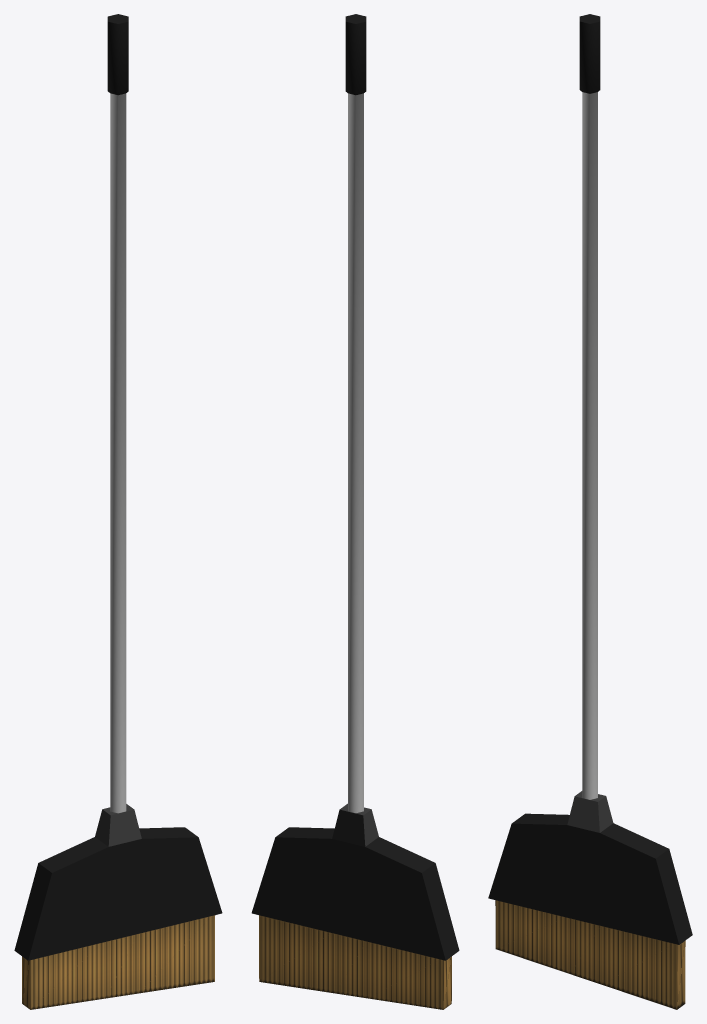
Rendered from Broom.FBX.
3 views of the same model, side by side, from view 1: azimuth 30°, elevation 25°; view 2: azimuth 150°, elevation 25°; view 3: azimuth 330°, elevation 25° (orthographic).
Parts seen in each view (by area): view 1: Broom_Head; view 2: Broom_Head; view 3: Broom_Head.
Boxes of the visible parts, x1=… form: Broom_Head: x1=14, y1=14, x2=222, y2=1009; Broom_Head: x1=251, y1=14, x2=459, y2=1009; Broom_Head: x1=488, y1=14, x2=692, y2=1009.
Size of the model in its own units: 41.55 by 201 by 5.1.
